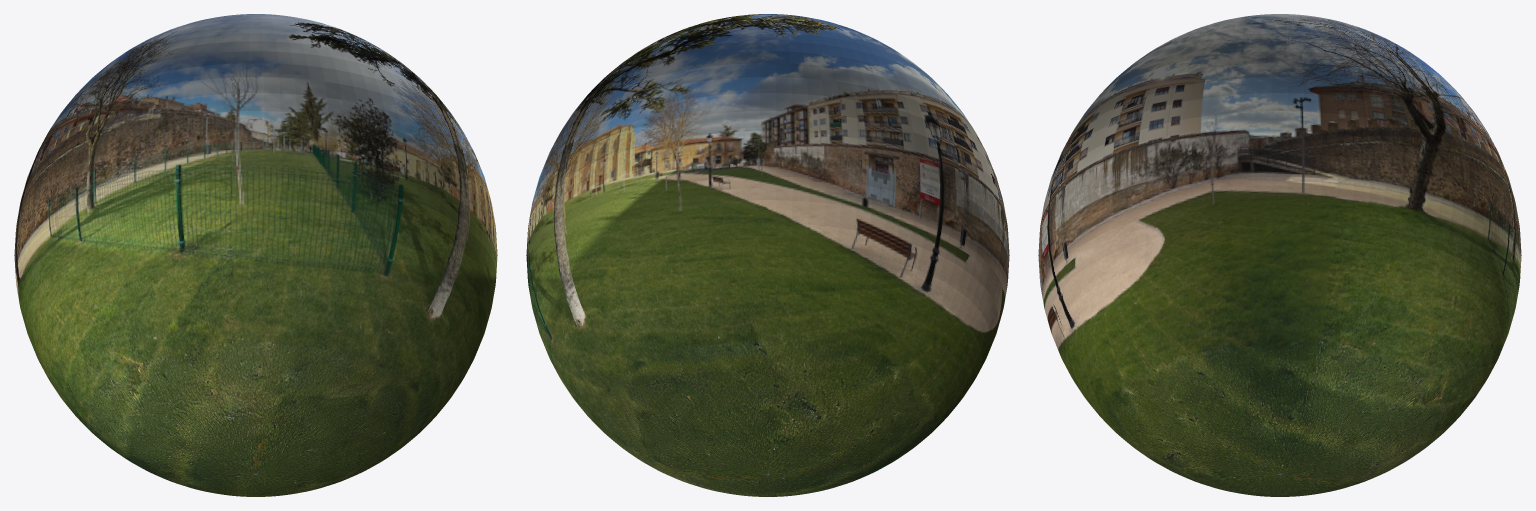
The model's file is building_4_360.glb.
The picture shows the model from 3 angles, left to right: view 1: azimuth 30°, elevation 25°; view 2: azimuth 150°, elevation 25°; view 3: azimuth 270°, elevation 25°; orthographic projection.
Bounding box in the file's own units: 2 × 2 × 2.
1 material, 1 textured.
